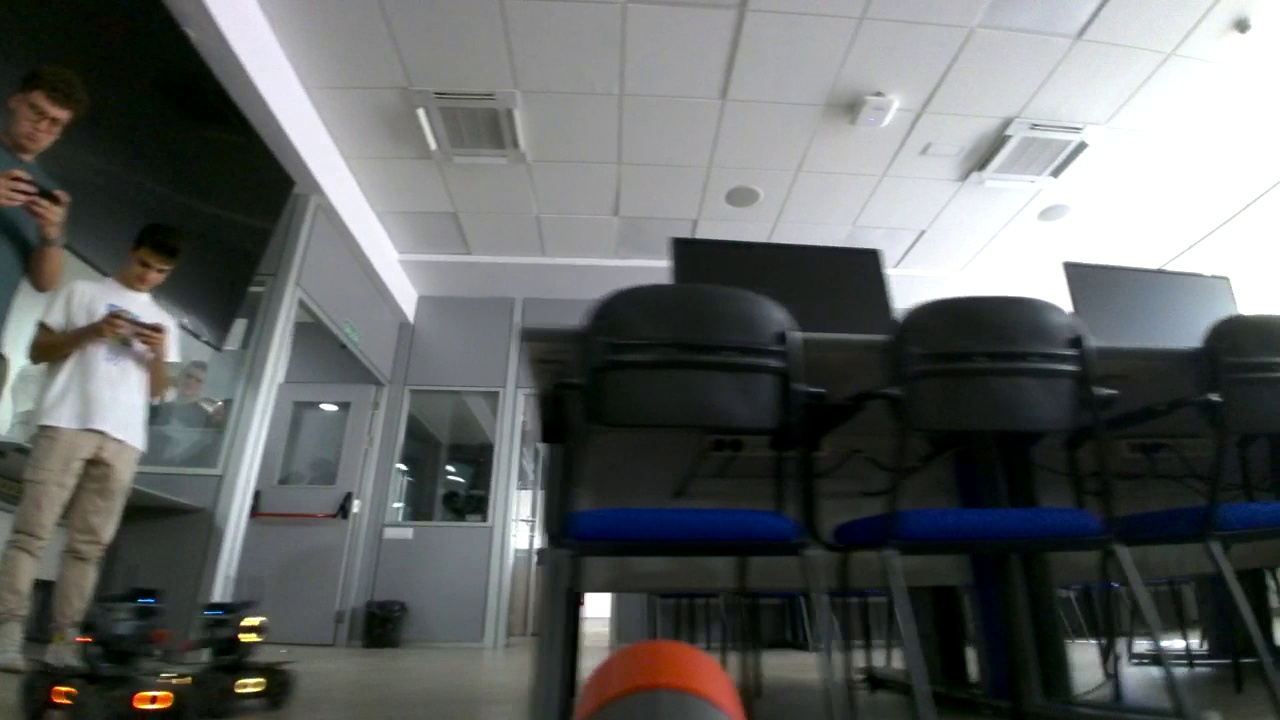robot: (17, 579, 192, 720), (177, 579, 290, 720)
